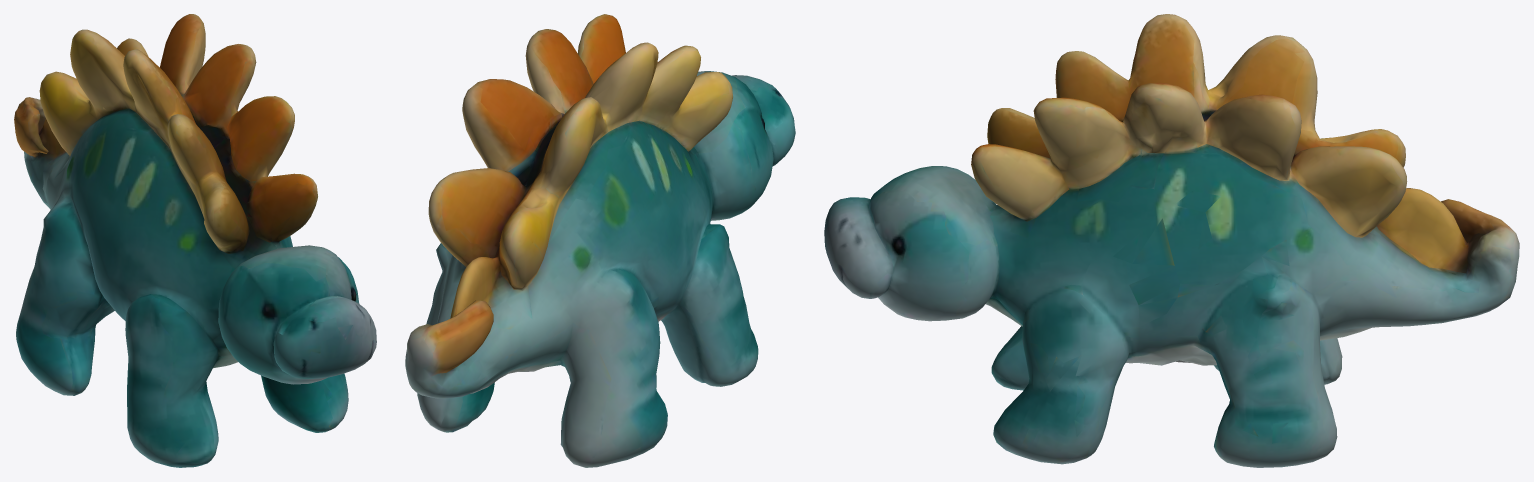
File: stego.glb
3 views of the same model, side by side, from view 1: azimuth 30°, elevation 25°; view 2: azimuth 150°, elevation 25°; view 3: azimuth 270°, elevation 25° (orthographic). The views are drawn at different scales.
Visible parts, largest first — view 1: Body; view 2: Body; view 3: Body.
Part boxes in pixels (x1,y1,x2,y2): Body: [14, 14, 376, 467]; Body: [405, 14, 795, 467]; Body: [824, 14, 1519, 467].
Bounding box in the file's own units: 0.1969 × 0.3 × 0.4949.
Materials: 1 (1 with a texture image).
